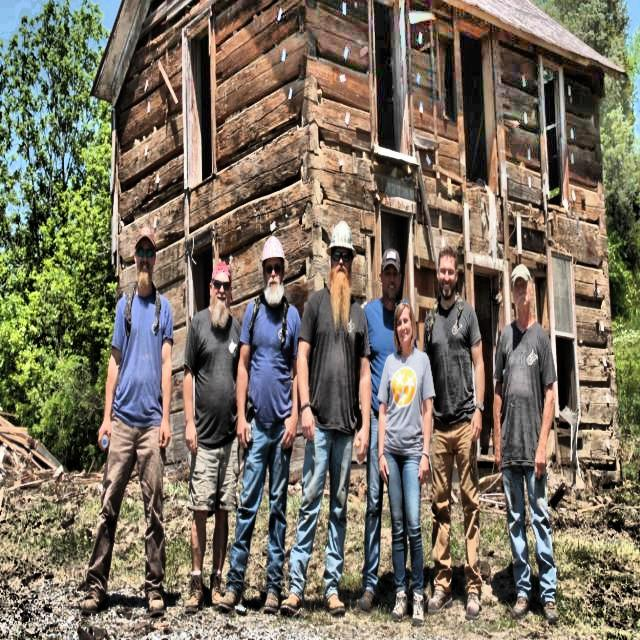person: (98, 214, 176, 630), (294, 210, 362, 611), (422, 245, 489, 622), (228, 236, 292, 617), (496, 262, 564, 618), (352, 236, 406, 610), (184, 247, 239, 596), (382, 306, 436, 622)
